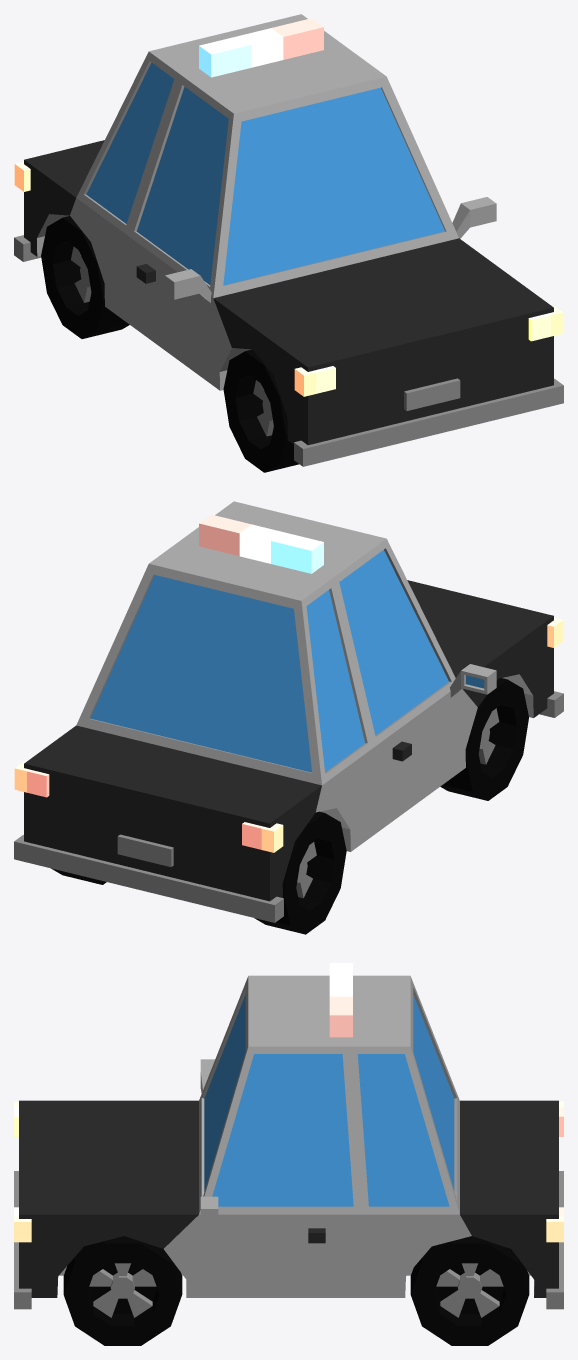
The model's file is CarroPolicia.glb.
3 views of the same model, one above another, from view 1: azimuth 30°, elevation 25°; view 2: azimuth 150°, elevation 25°; view 3: azimuth 270°, elevation 25° (orthographic). The views are drawn at different scales.
Visible parts, largest first — view 1: Policia; view 2: Policia; view 3: Policia.
Part boxes in pixels (left/top/right/bottom): Policia: left=14, top=14, right=563, bottom=472; Policia: left=14, top=501, right=563, bottom=934; Policia: left=14, top=963, right=563, bottom=1345.
Bounding box in the file's own units: 2.62 × 2.45 × 4.07.
